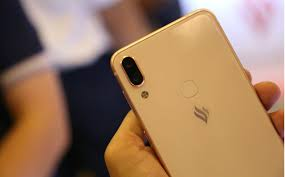vsmart: (109, 4, 285, 177)
